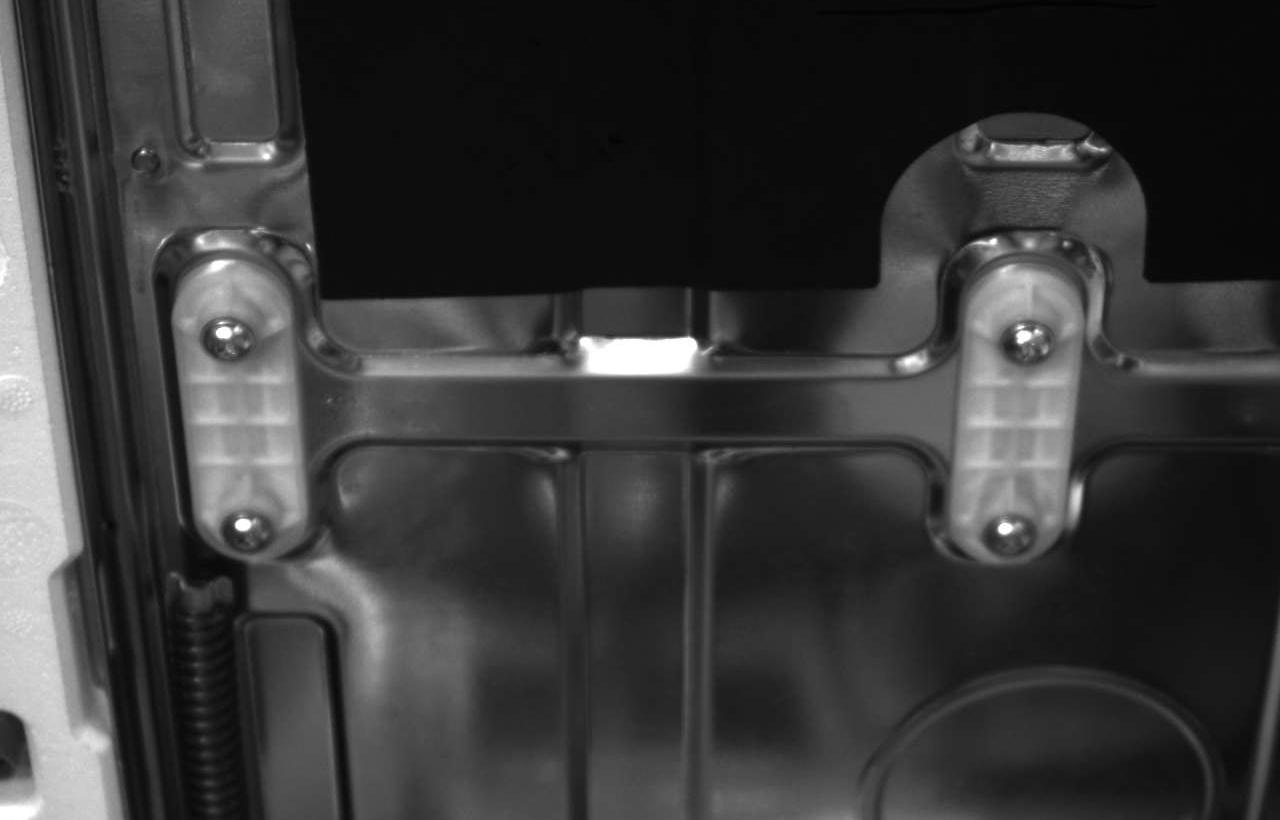vida-ok: (192, 302, 279, 380), (992, 302, 1080, 375), (207, 496, 287, 560), (968, 508, 1044, 567)
